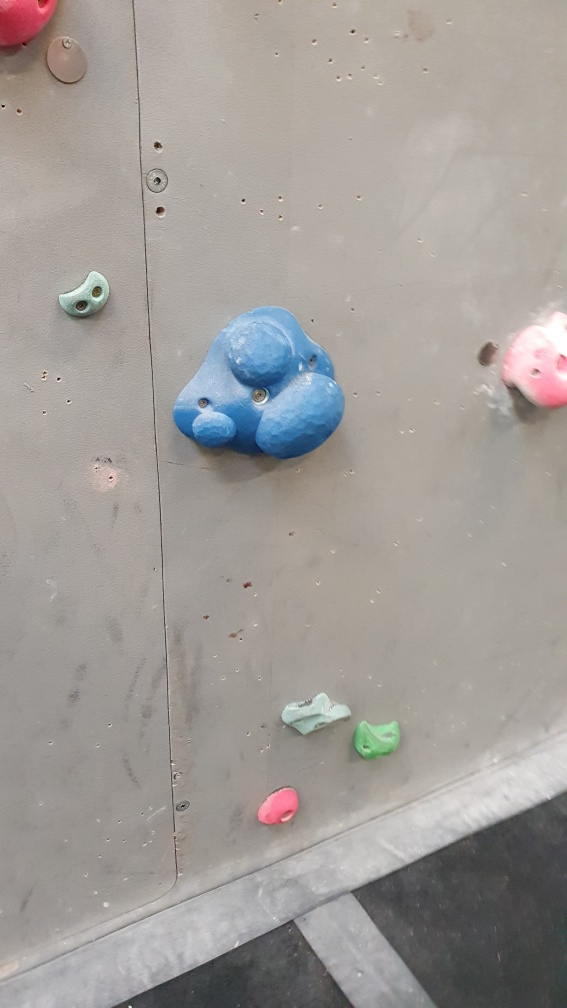Sloper: (171, 301, 348, 467)
